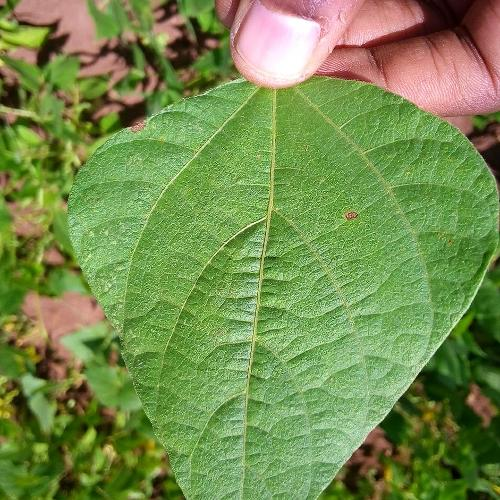embun tepung: (78, 201, 134, 311)
hawar: (331, 198, 364, 228), (124, 116, 162, 140)
